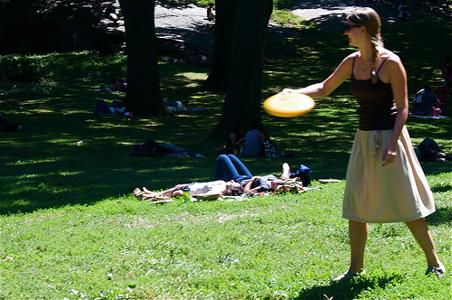person: (279, 7, 447, 286)
